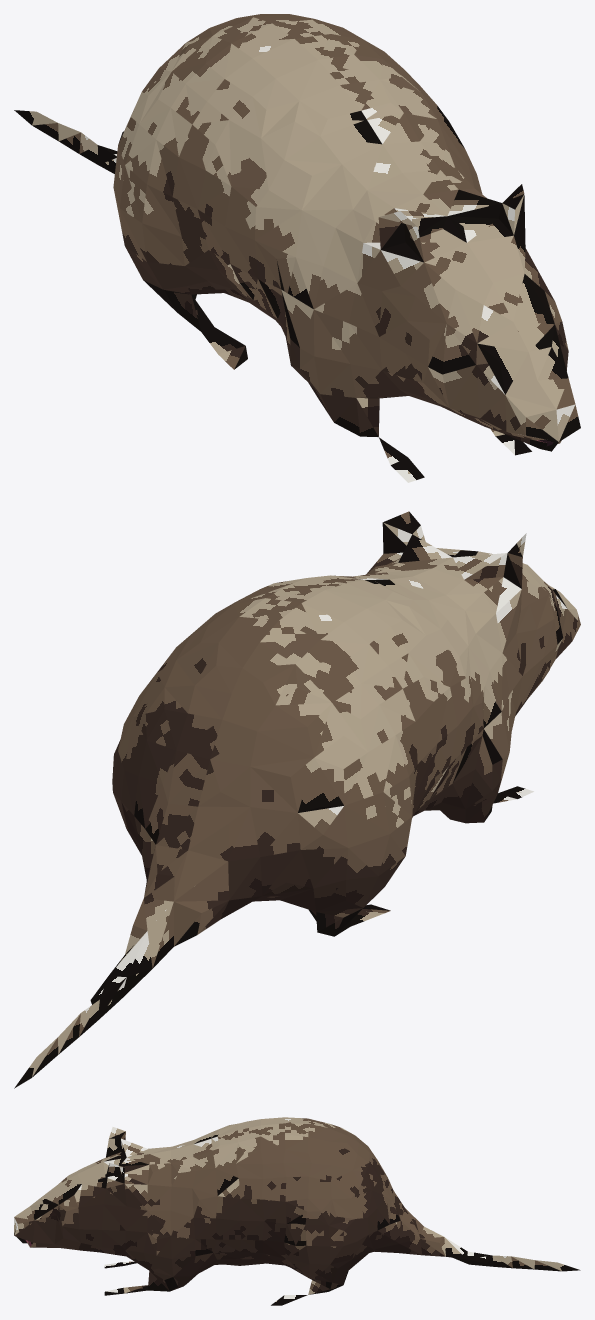
The model's file is street_rat.glb.
The picture shows the model from 3 angles, top to bottom: view 1: azimuth 30°, elevation 25°; view 2: azimuth 150°, elevation 25°; view 3: azimuth 270°, elevation 25°; orthographic projection. The views are drawn at different scales.
Visible parts, largest first — view 1: mesh; view 2: mesh; view 3: mesh.
Boxes of the visible parts, x1,y1,x2,y2 form: mesh: [14, 14, 580, 482]; mesh: [14, 511, 580, 1088]; mesh: [14, 1117, 580, 1305].
Bounding box in the file's own units: 13.21 × 14 × 45.82.
Materials: 1 (1 with a texture image).
